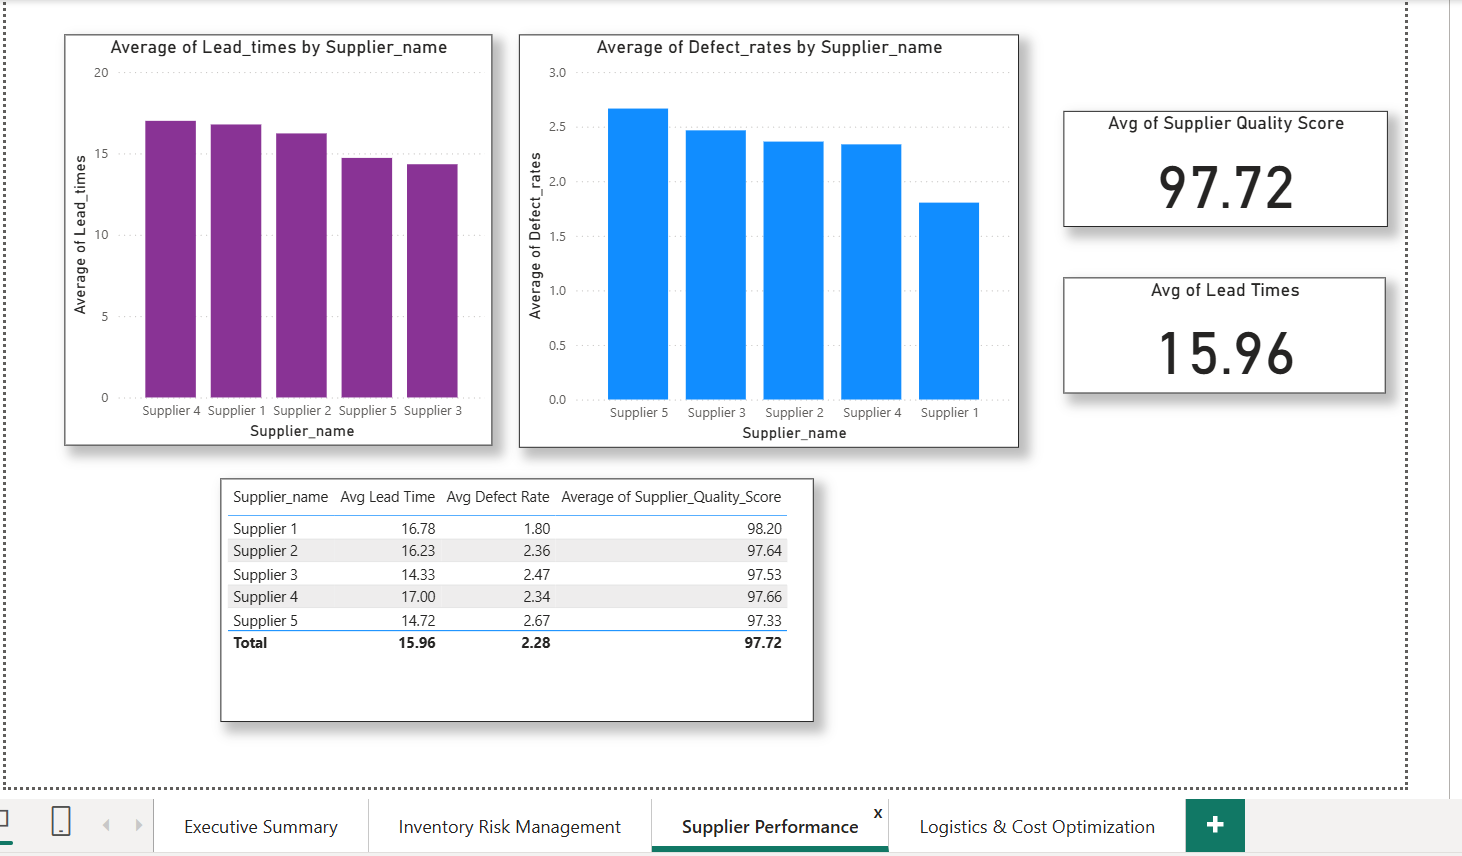

The dashboard page shown, as its layout file describes it:
{"tool":"powerbi","page":{"name":"Supplier Performance","canvas":[1280,720],"ordinal":2},"visuals":[{"type":"card","title":"Avg of Lead Times","fields":{"Values":["Avg(supply_chain.Lead_times)"]},"box":[967.6,253.2,294.8,105.8],"z":0},{"type":"card","title":"Avg of Supplier Quality Score","fields":{"Values":["Avg(supply_chain.Supplier_Quality_Score)"]},"box":[967.6,102,296.7,105.8],"z":1000},{"type":"clusteredColumnChart","fields":{"Category":["supply_chain.Supplier_name"],"Y":["Avg(supply_chain.Lead_times)"]},"box":[52.9,32.1,391.2,376.1],"z":2000},{"type":"clusteredColumnChart","fields":{"Category":["supply_chain.Supplier_name"],"Y":["Avg(supply_chain.Defect_rates)"]},"box":[468.7,32.1,457.3,378],"z":3000},{"type":"tableEx","fields":{"Values":["supply_chain.Supplier_name","supply_chain.Avg Lead Time","supply_chain.Avg Defect Rate","Avg(supply_chain.Supplier_Quality_Score)"]},"box":[196.5,438.4,542.4,223],"z":4000}]}

Visuals, with their boxes on the page's 1280x720 design canvas (x1, y1, x2, y2). These are canvas units, not pixel positions in the 1462x856 screenshot, which may show the page scaled, cropped or inside an application window:
"Avg of Lead Times" card: [968, 253, 1262, 359]
"Avg of Supplier Quality Score" card: [968, 102, 1264, 208]
clusteredColumnChart - supply_chain.Supplier_name x Avg(supply_chain.Lead_times): [53, 32, 444, 408]
clusteredColumnChart - supply_chain.Supplier_name x Avg(supply_chain.Defect_rates): [469, 32, 926, 410]
tableEx - supply_chain.Supplier_name x supply_chain.Avg Lead Time: [196, 438, 739, 661]
